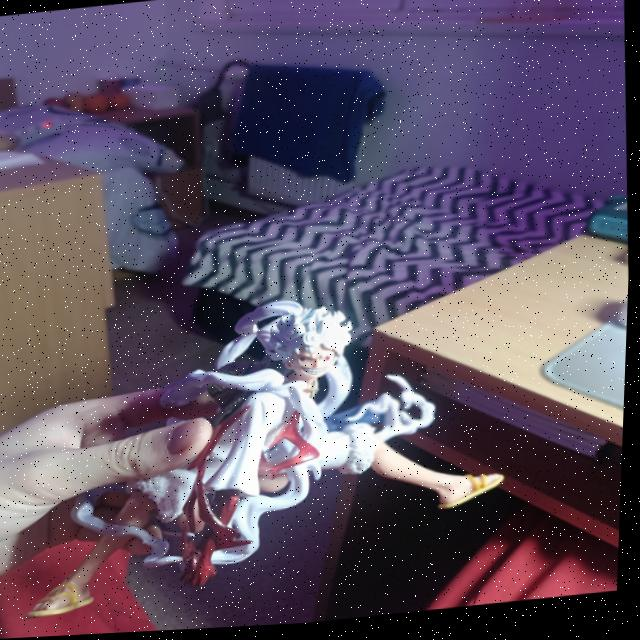luffy: (15, 272, 547, 621)
